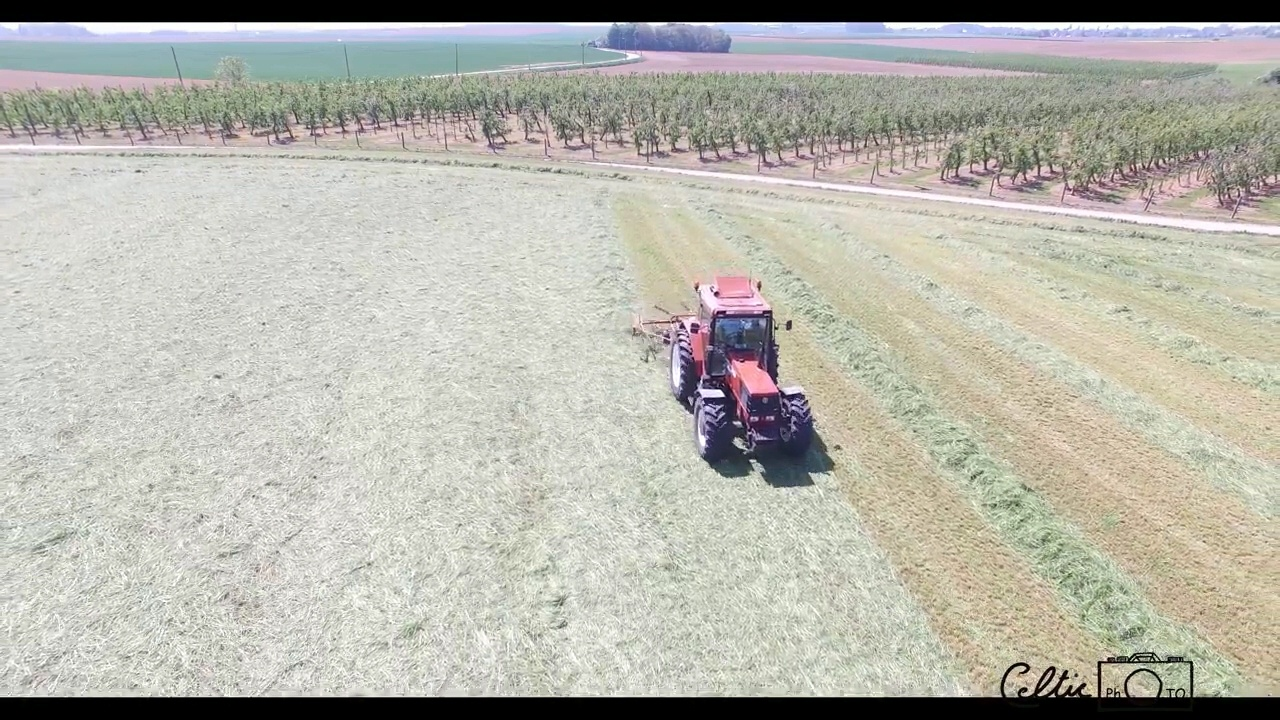traktor: (665, 271, 815, 463)
